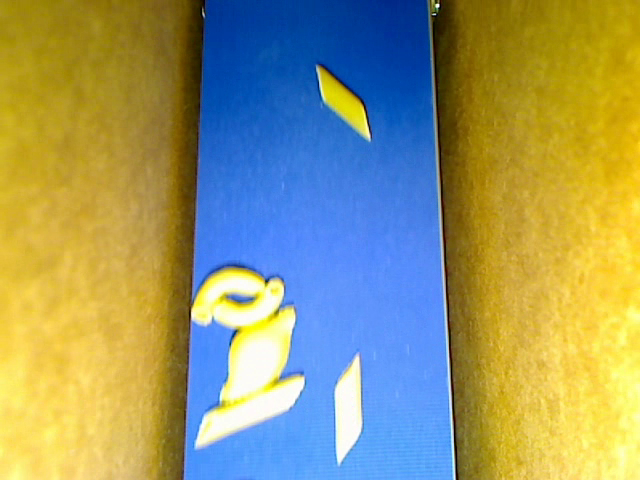elbow: (190, 265, 266, 325), (212, 276, 283, 329)
penne: (194, 375, 306, 448), (315, 64, 371, 140), (334, 350, 363, 465)
shell: (219, 306, 296, 404)
